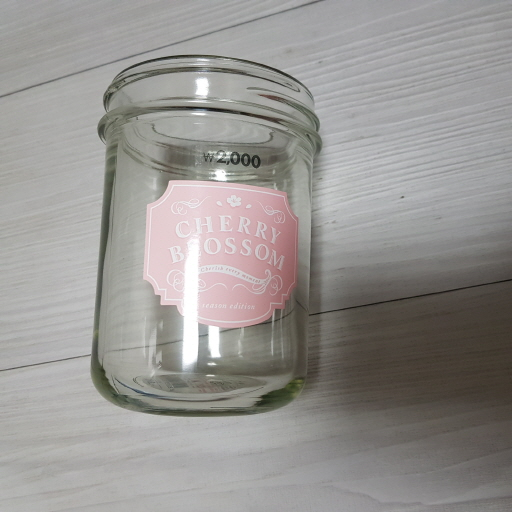Glass_5: (85, 52, 325, 416)
